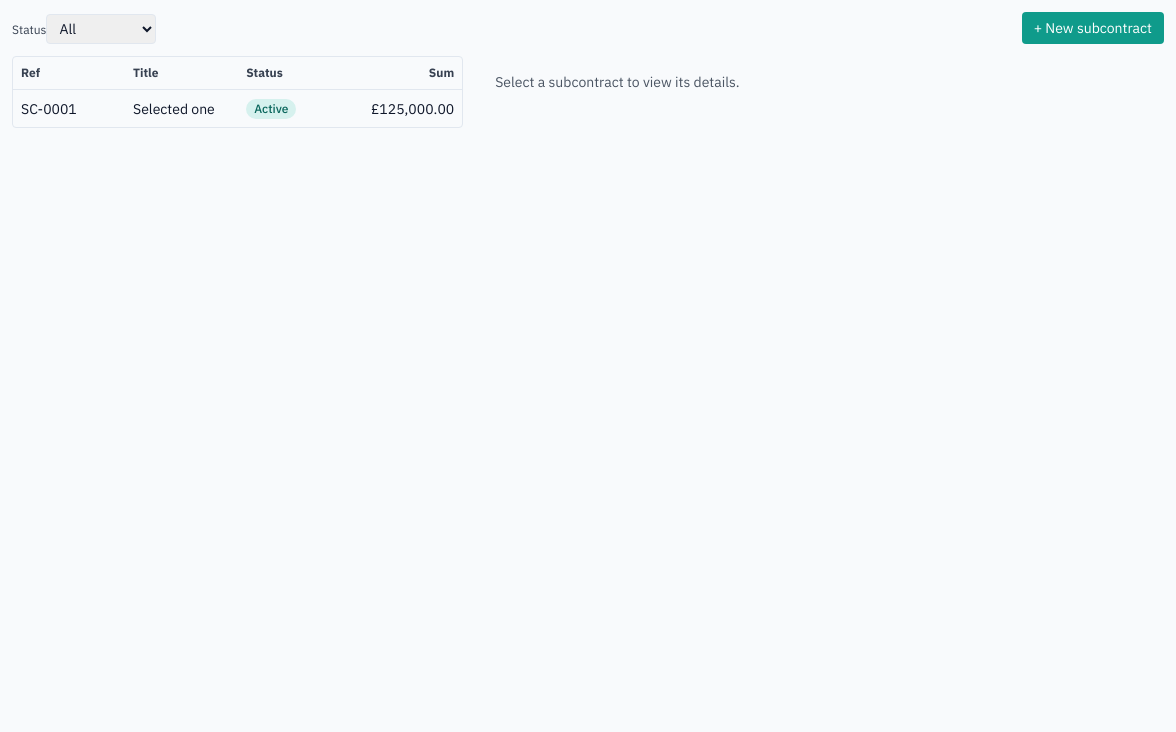
it: list rendering, scope fence, filtering, selection (§R4.1) › clicking a row mounts the detail panel for that subcontract
This screenshot has width=1176, height=732.
Expected: the text "Select a subcontract to view its details." is shown, 495,73 -> 740,91
Click the row with test id "subcontracts-row-s-sel". click: {"x": 49, "y": 108}
box: 13,90 -> 462,127
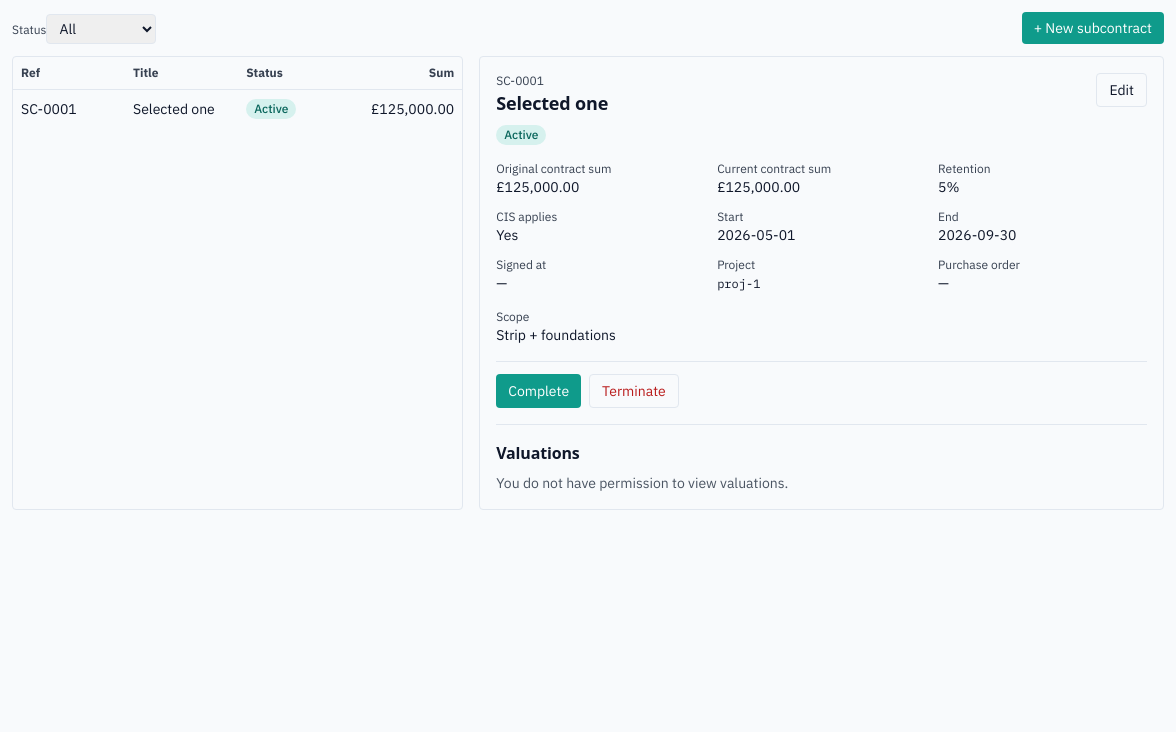
Expected: the element with test id "subcontract-detail-s-sel" is shown, 479,56 -> 1164,510
Expected: the heading "Selected one" is shown, 496,89 -> 608,117
